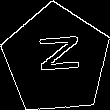N_W: (31, 38, 82, 81)
